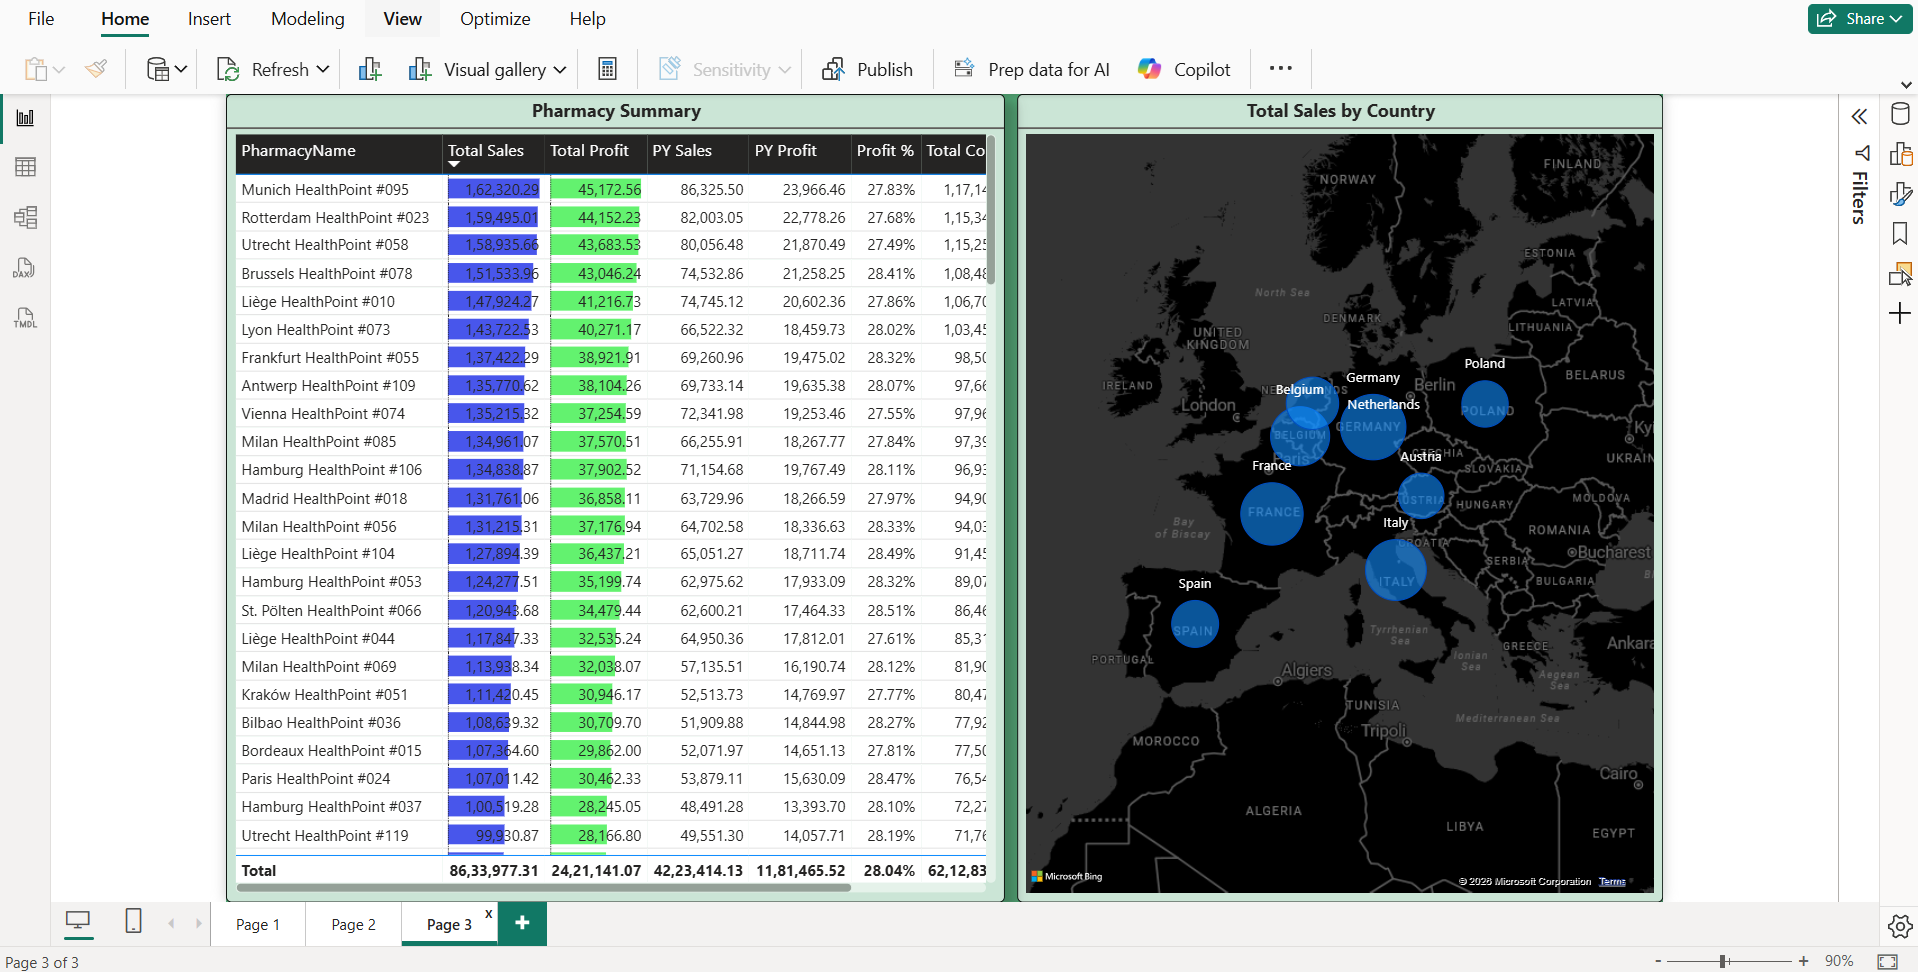

Layout of this report page (visuals, bound fields, positions):
{"tool":"powerbi","page":{"name":"Page 4","canvas":[1280,720],"ordinal":2},"visuals":[{"type":"map","fields":{"Size":["Base Measures.Total Sales"],"Category":["DimPharmacy.Country"]},"box":[705,0,575,720],"z":1},{"type":"tableEx","title":"Pharmacy Summary","fields":{"Values":["DimPharmacy.PharmacyName","Base Measures.Total Sales","Base Measures.Total Profit","Base Measures.PY Sales","Base Measures.PY Profit","Base Measures.Profit %","Base Measures.Total Cost","Base Measures.Total Units Sold"]},"box":[0,0,693.8,720],"z":2}]}

Visuals, with their boxes on the page's 1280x720 design canvas (x1, y1, x2, y2). These are canvas units, not pixel positions in the 1918x972 screenshot, which may show the page scaled, cropped or inside an application window:
map - Base Measures.Total Sales x DimPharmacy.Country: [left=705, top=0, right=1280, bottom=720]
"Pharmacy Summary" tableEx: [left=0, top=0, right=694, bottom=720]
